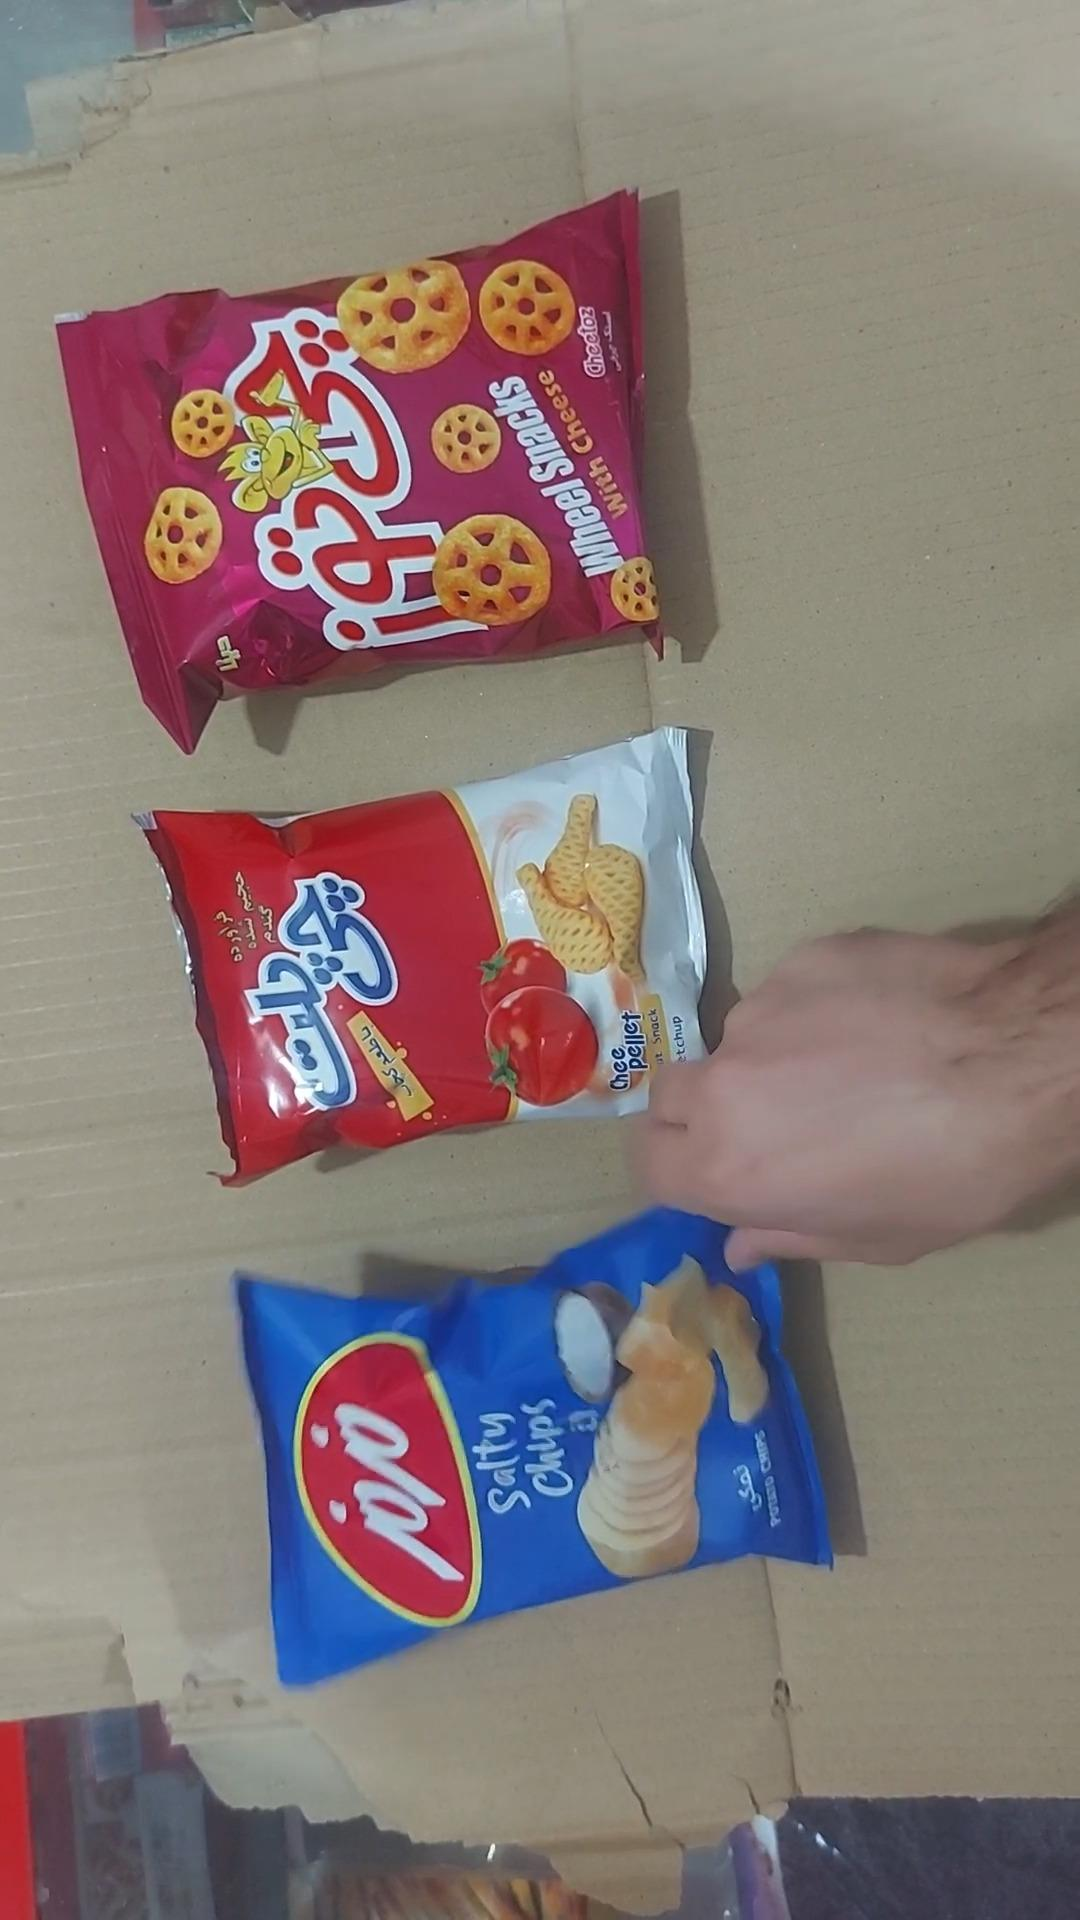Chee pellet ketchup: (131, 728, 708, 1189)
Cheetoz wheelsnack: (55, 190, 673, 756)
Maz Maz salty chips: (229, 1207, 833, 1695)
